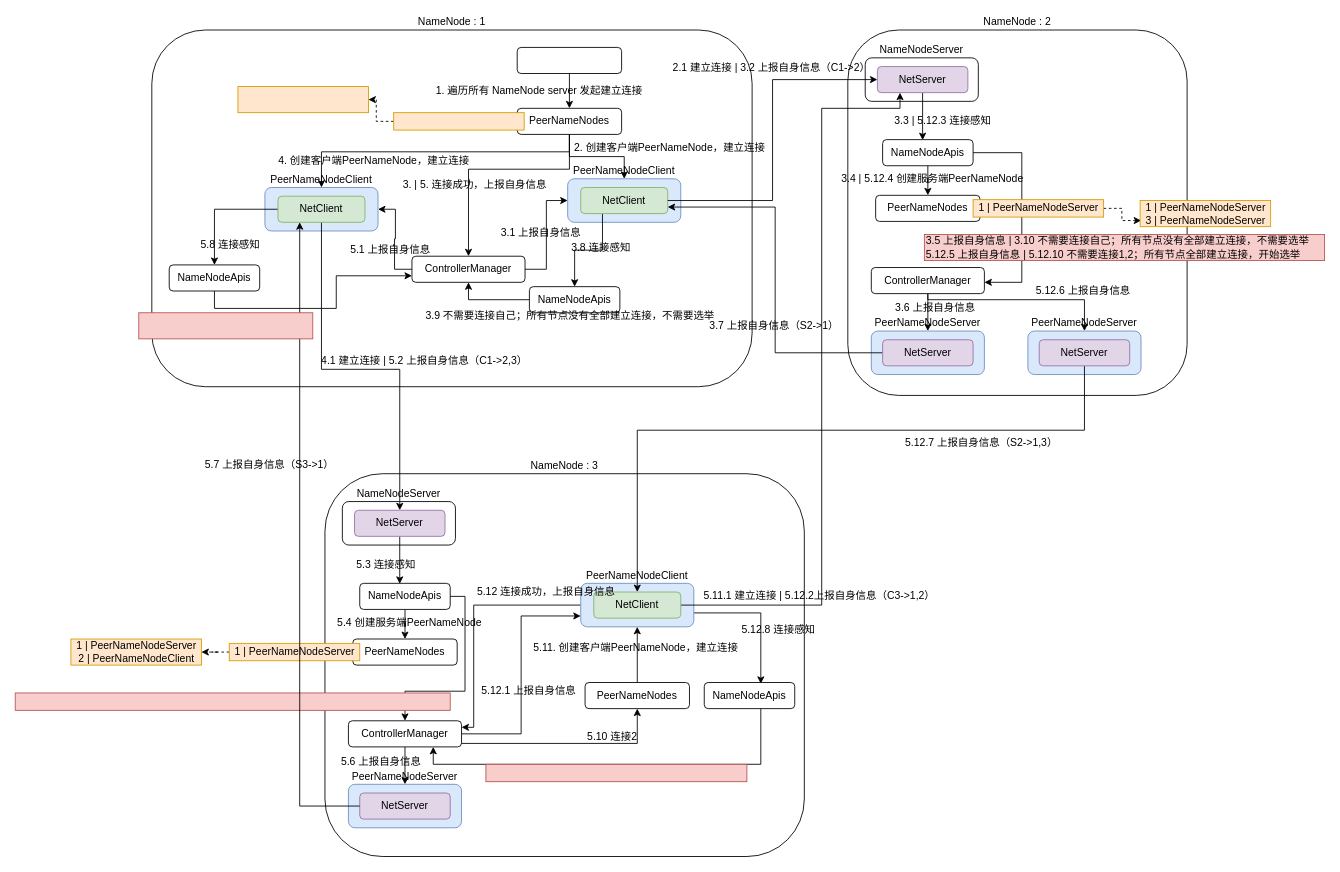
Image size: 1340x872. Some labels were removed from this diagram. Here are the shapes that lost their labels. From the top down, the centre of each, then its label:
At point 569,60: "ShardingManager".
At point 302,99: "2 | PeerNameNodeClient 3 | PeerNameNodeClient".
At point 458,121: "2 | PeerNameNodeClient".
At point 225,325: "5.9 不需要连接自己； 所有节点全部建立连接，开始选举".
At point 232,701: "5.5 上报自身信息 | 5.10 不需要连接自己，但需要连接2；所有节点全部建立连接，开始选举".
At point 616,772: "5.12.9 不需要连接1,3；已开始选举，不需要重复执行".
